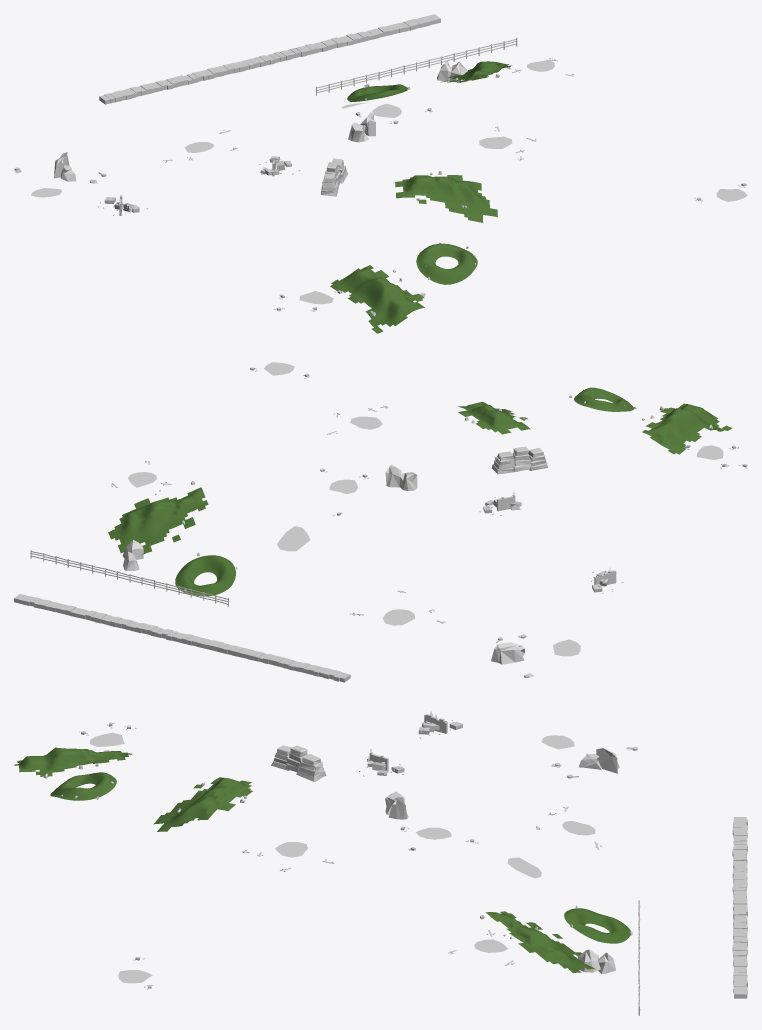
The model's file is outdoor_31.glb.
The picture shows the model from 3 angles, top to bottom: view 1: azimuth 30°, elevation 25°; view 2: azimuth 150°, elevation 25°; view 3: azimuth 270°, elevation 25°; orthographic projection. The views are drawn at different scales.
Visible parts, largest first — view 1: gas_station_town; view 2: gas_station_town; view 3: gas_station_town.
Part boxes in pixels (x1,y1,x2,y2): gas_station_town: (14, 14, 747, 333); gas_station_town: (14, 362, 747, 682); gas_station_town: (14, 711, 747, 1015).
Size of the model in its own units: 81.44 by 12.05 by 90.89.
2 materials, 1 textured.
